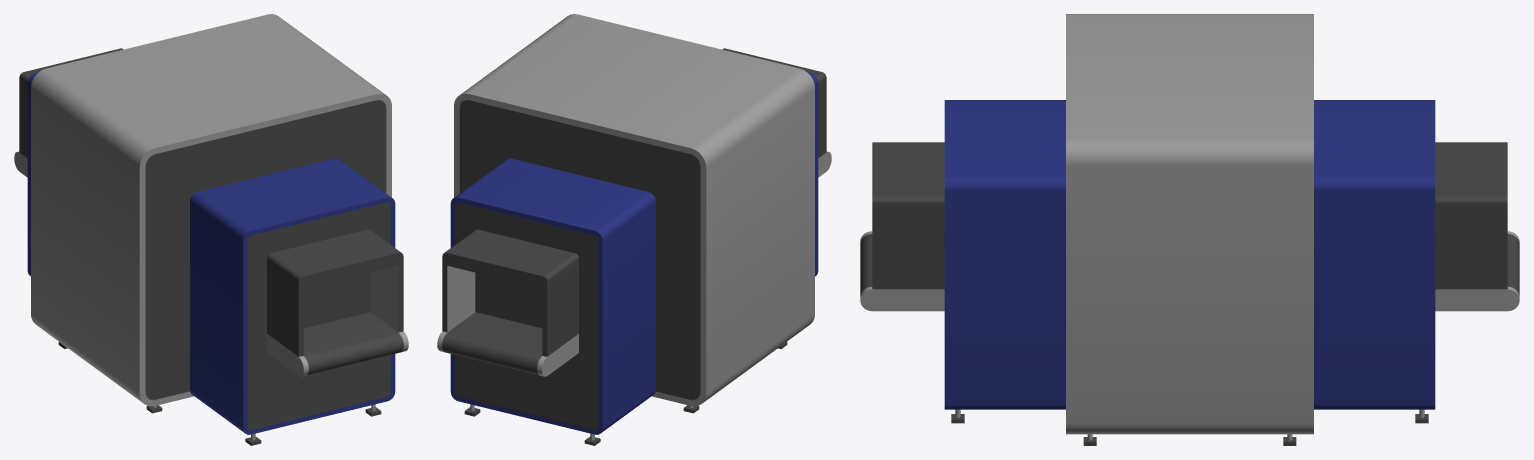
Rendered from ct_scanner_1.dae.
3 renders of one model, left to right at view 1: azimuth 30°, elevation 25°; view 2: azimuth 150°, elevation 25°; view 3: azimuth 270°, elevation 25°, orthographic. The views are drawn at different scales.
Visible parts, largest first — view 1: xray, middle, tunnel; view 2: xray, middle, tunnel; view 3: xray, middle, tunnel.
Boxes of the visible parts, <box> form: xray: <box>31,14,391,406</box>; middle: <box>27,72,395,434</box>; tunnel: <box>14,48,408,376</box>; xray: <box>454,14,814,406</box>; middle: <box>450,72,818,434</box>; tunnel: <box>437,48,831,376</box>; xray: <box>1066,14,1313,434</box>; middle: <box>944,100,1435,409</box>; tunnel: <box>860,142,1519,311</box>.
Bounding box in the file's own units: 1.66 × 3.3 × 1.71.
Materials: 3 (3 with a texture image).
